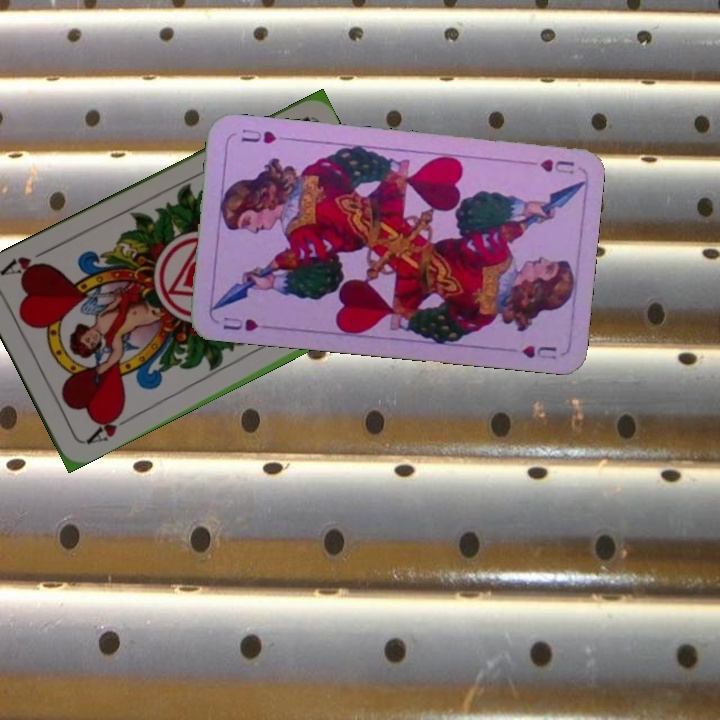HA: (82, 406, 135, 447)
HU: (219, 312, 261, 334), (536, 155, 577, 177)
